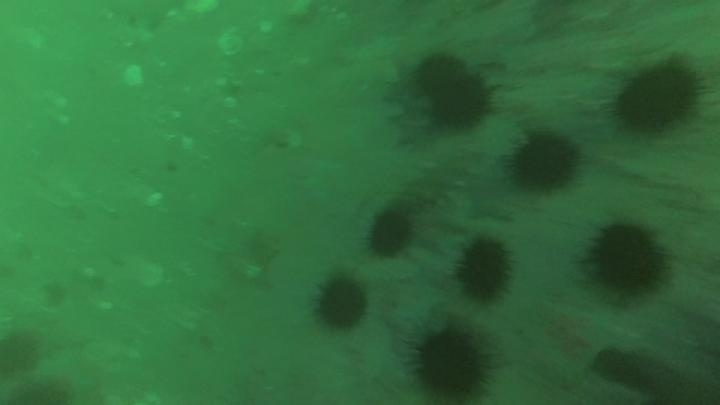echinus: (408, 325, 495, 402), (613, 62, 703, 136), (586, 221, 668, 298), (507, 129, 581, 195), (453, 235, 516, 304), (428, 72, 493, 130), (311, 274, 370, 333), (364, 207, 415, 260), (414, 53, 466, 98), (1, 328, 43, 377), (3, 376, 73, 405)
holothurian: (395, 151, 476, 213)
